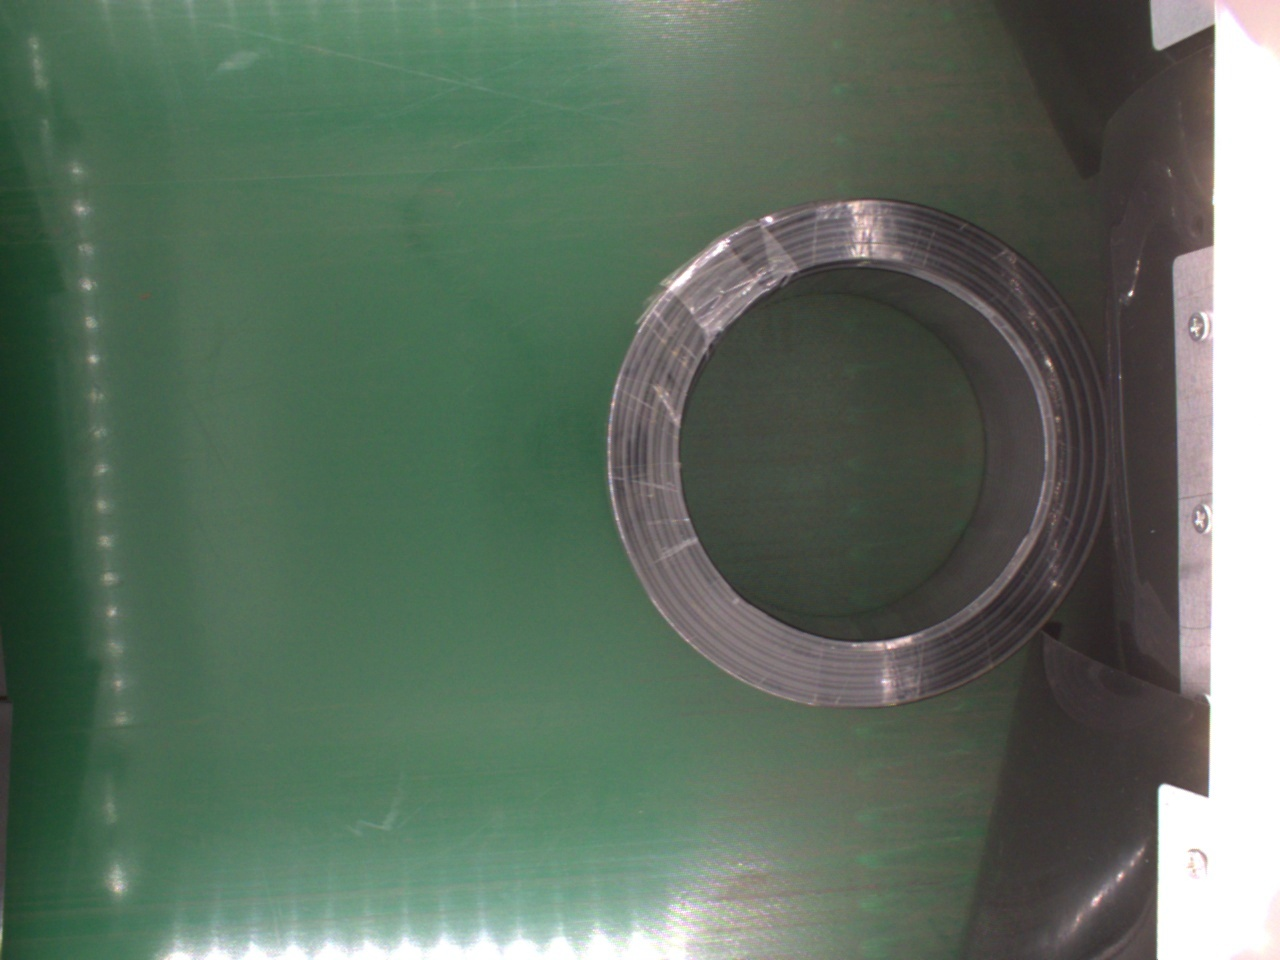black: (601, 197, 1108, 709)
